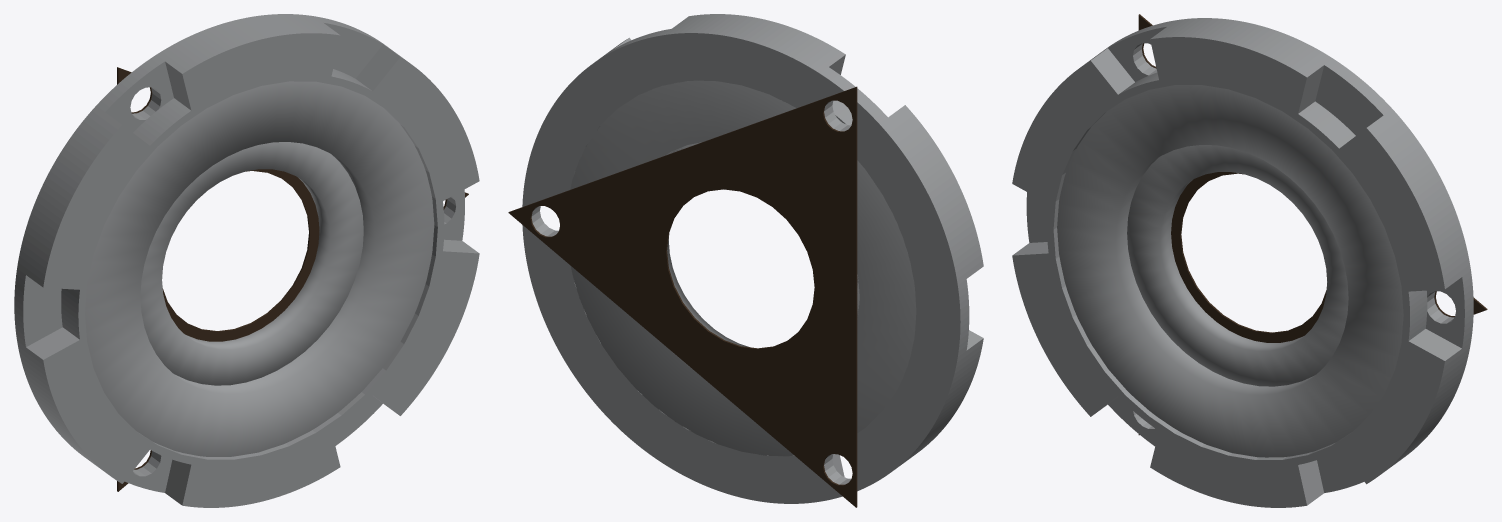
File: cam-flange-cover-right.glb
The picture shows the model from 3 angles, left to right: view 1: azimuth 30°, elevation 25°; view 2: azimuth 150°, elevation 25°; view 3: azimuth 330°, elevation 25°; orthographic projection.
Visible parts, largest first — view 1: cam-flange-cover-right:castAlu, cam-flange-cover-right:gasket; view 2: cam-flange-cover-right:castAlu, cam-flange-cover-right:gasket; view 3: cam-flange-cover-right:castAlu, cam-flange-cover-right:gasket.
Boxes of the visible parts, bbox=[...] form: cam-flange-cover-right:castAlu: bbox=[14, 14, 479, 507]; cam-flange-cover-right:gasket: bbox=[117, 67, 468, 491]; cam-flange-cover-right:castAlu: bbox=[522, 14, 983, 503]; cam-flange-cover-right:gasket: bbox=[508, 86, 857, 507]; cam-flange-cover-right:castAlu: bbox=[1012, 18, 1473, 507]; cam-flange-cover-right:gasket: bbox=[1138, 14, 1487, 435].
Size of the model in its own units: 97.2 by 94.4 by 10.1.
